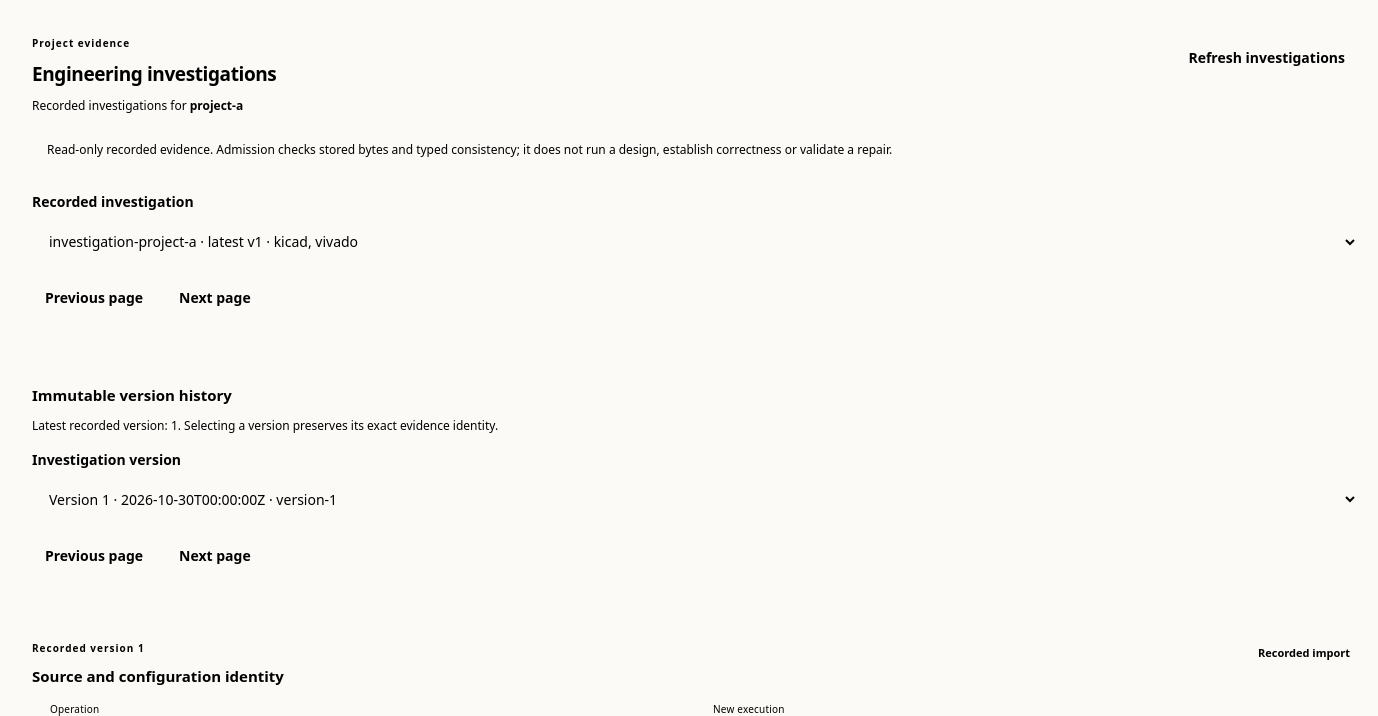
Test: engineering investigation read-only workbench (mock HTTP) › clears prior detail and links after a detail 409 refresh
Click the button "Refresh investigations" at {"x": 1267, "y": 58}, box [1175, 36, 1358, 80]
(page scrolled)
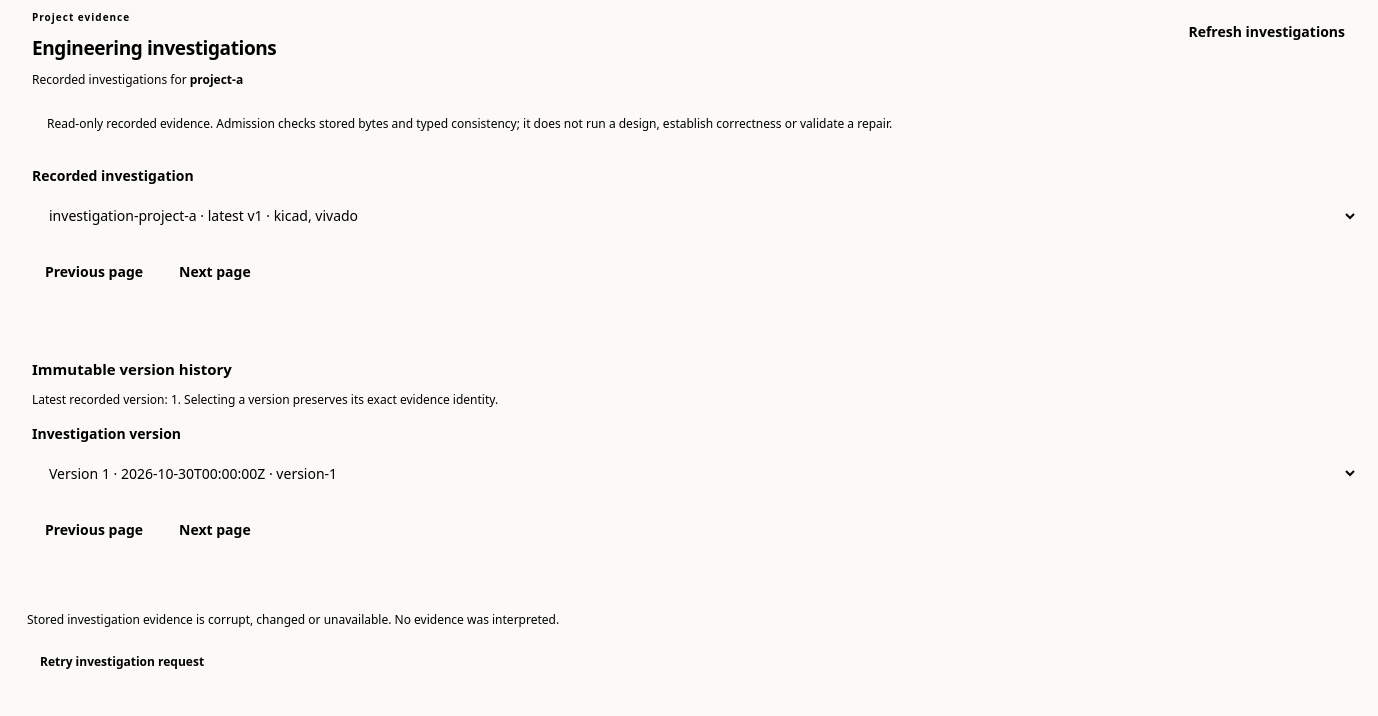
Expected: the message is shown, [27, 611, 559, 684]
